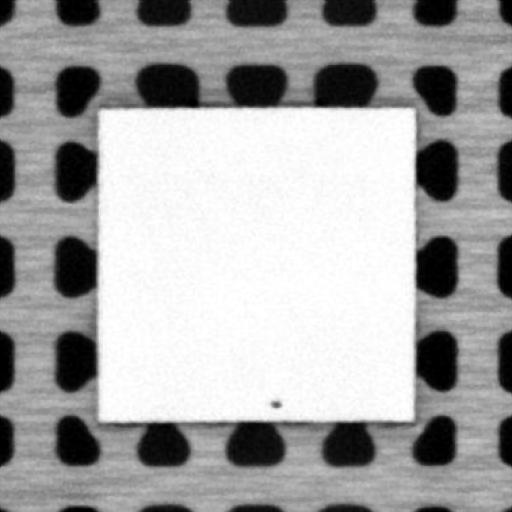DIE_INK: (267, 396, 283, 409)
